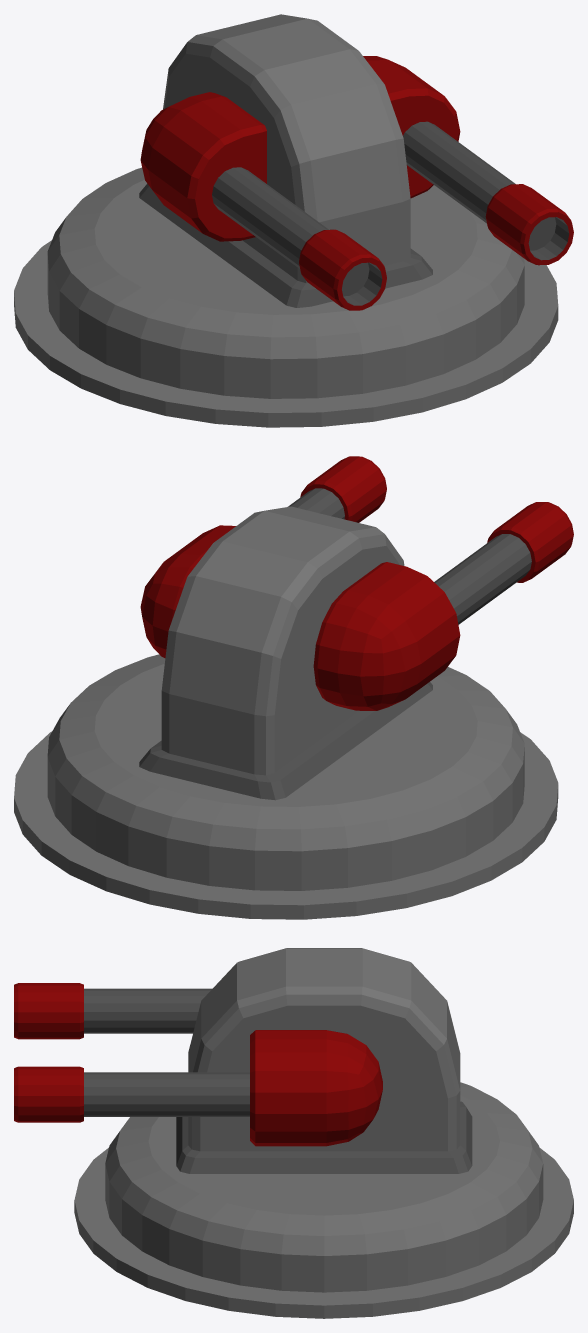
The model's file is Laser Turret Small.fbx.
3 views of the same model, one above another, from view 1: azimuth 30°, elevation 25°; view 2: azimuth 150°, elevation 25°; view 3: azimuth 270°, elevation 25° (orthographic). The views are drawn at different scales.
Parts seen in each view (by area): view 1: Laser Base Small, Laser Head Small, Laser Barrels Small; view 2: Laser Base Small, Laser Head Small, Laser Barrels Small; view 3: Laser Base Small, Laser Head Small, Laser Barrels Small.
Part boxes in pixels (x1,y1,x2,y2): Laser Base Small: [14, 167, 558, 427]; Laser Head Small: [139, 14, 432, 307]; Laser Barrels Small: [140, 56, 573, 310]; Laser Base Small: [14, 654, 558, 919]; Laser Head Small: [139, 506, 432, 800]; Laser Barrels Small: [140, 456, 573, 710]; Laser Base Small: [74, 1082, 573, 1318]; Laser Head Small: [176, 948, 472, 1173]; Laser Barrels Small: [14, 983, 382, 1146].
Bounding box in the file's own units: 0.82 × 0.9193 × 0.445.
